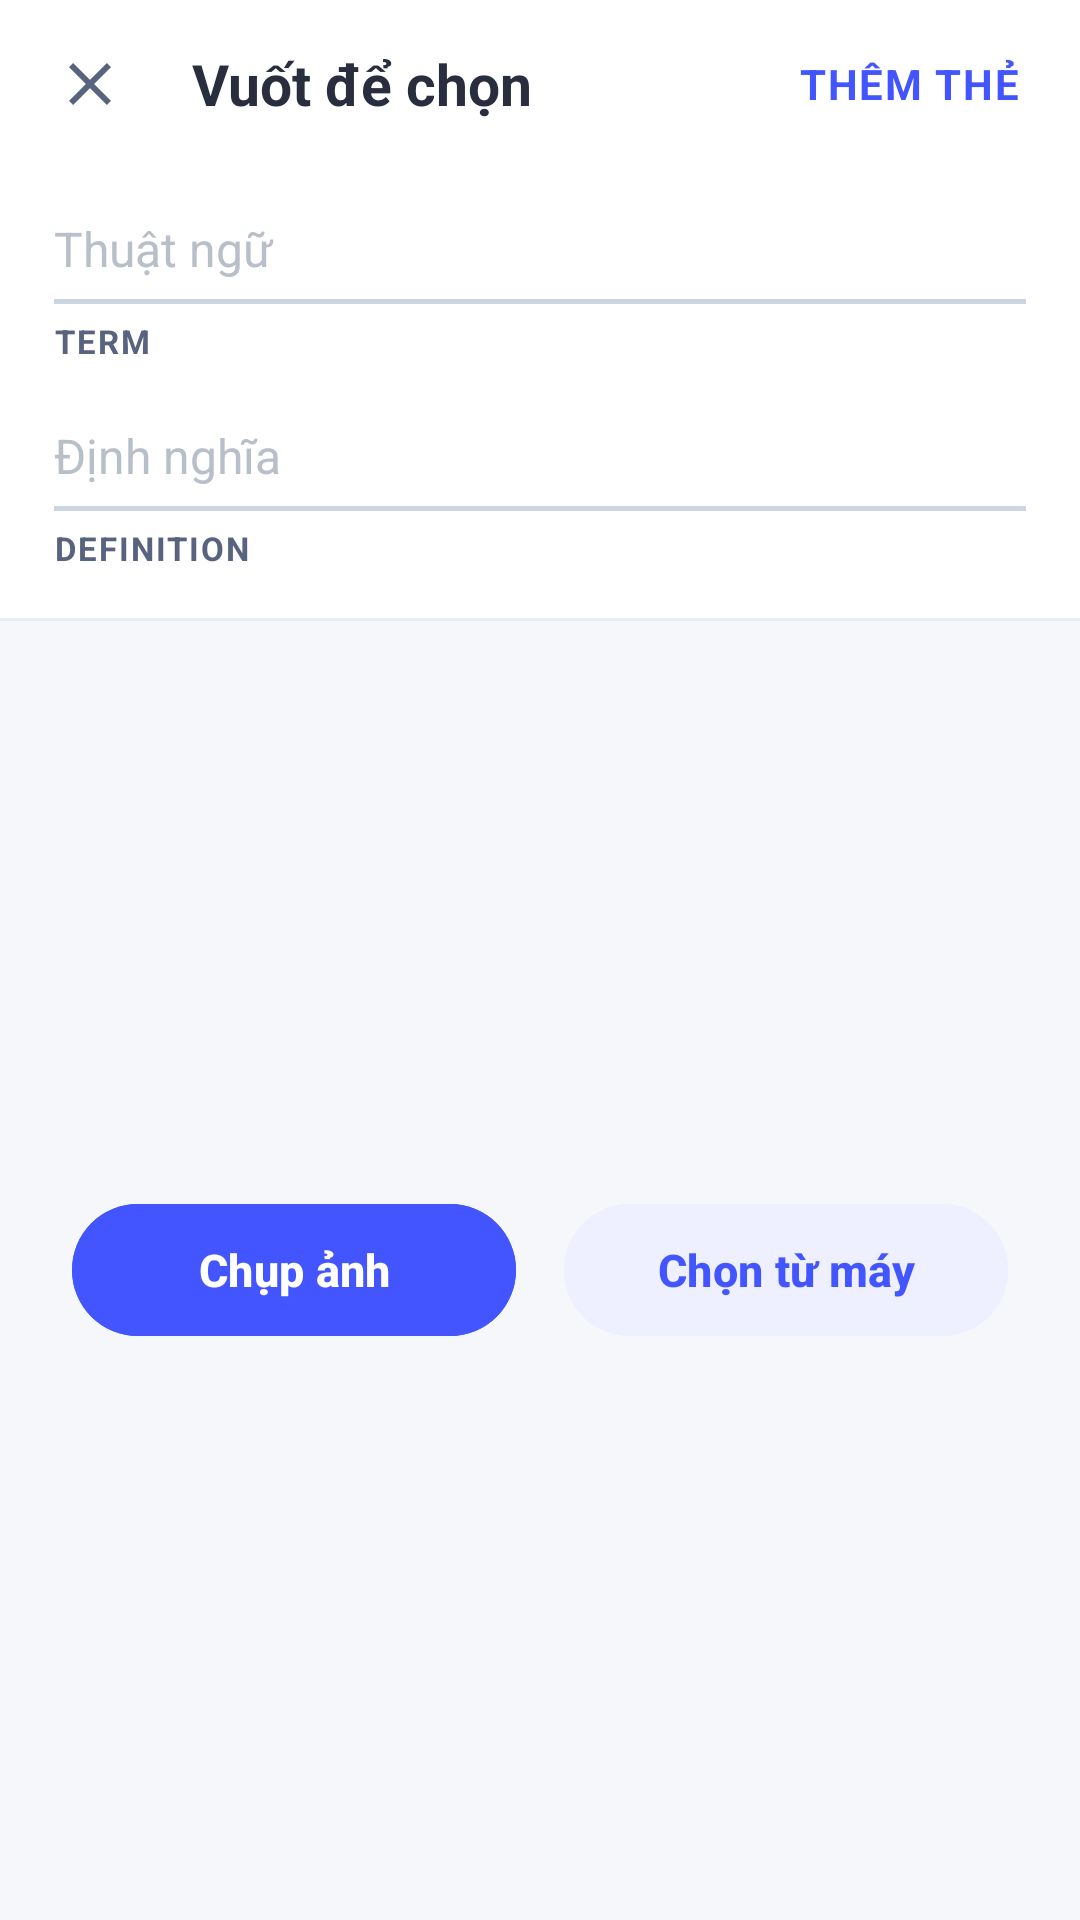

Where icons sit on this 1080 × 1920 app screen, as (x1, y1, x2, y2):
Close: (69, 63, 111, 105)
